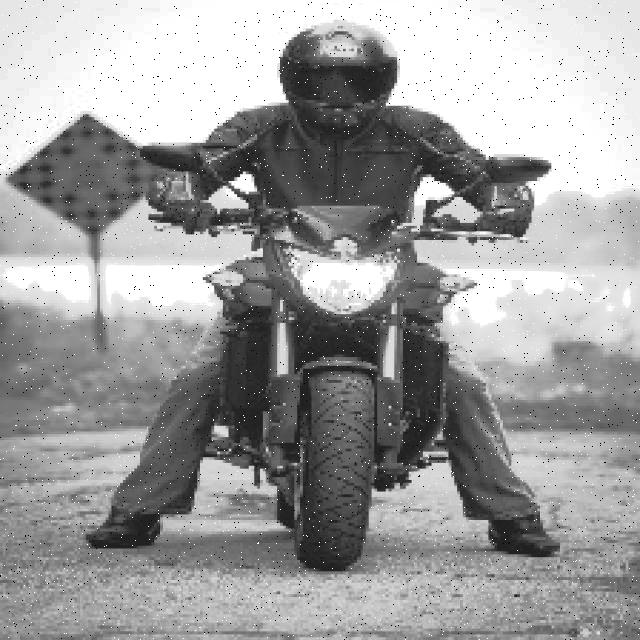Bike: (179, 206, 471, 580)
